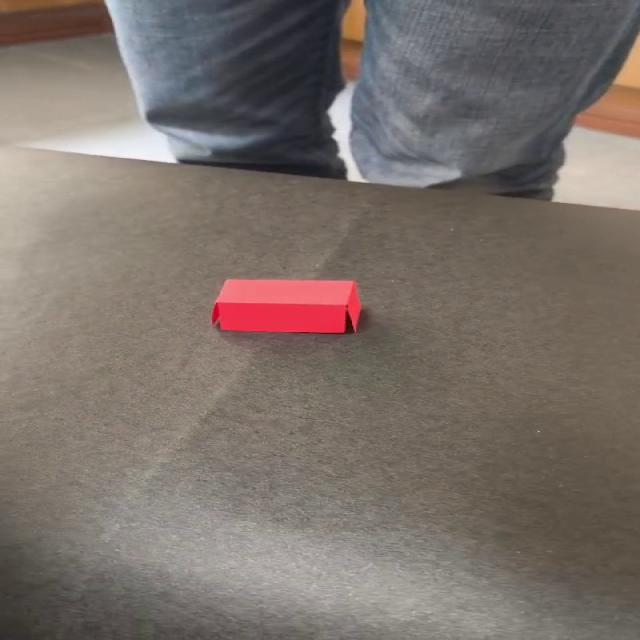red block: (211, 278, 361, 334)
